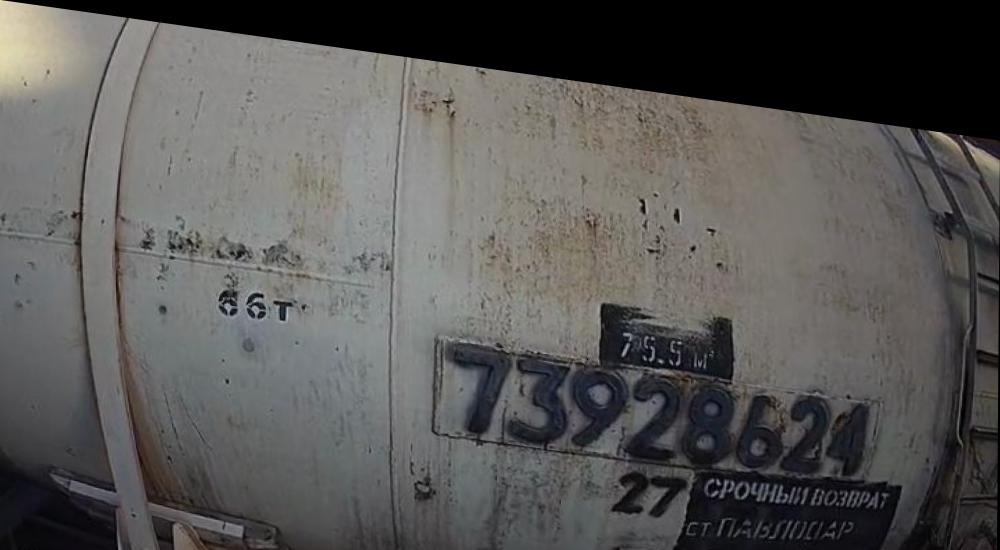Wagon-number: (441, 324, 873, 468)
